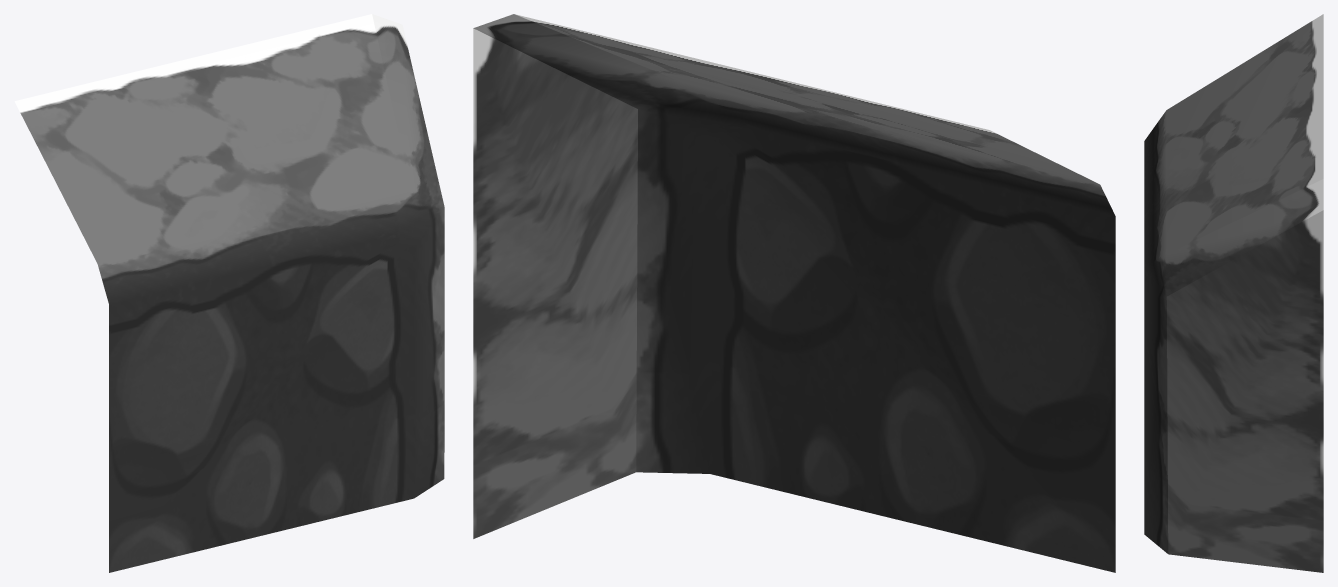
File: tileSegment20.fbx
3 renders of one model, left to right at view 1: azimuth 30°, elevation 25°; view 2: azimuth 150°, elevation 25°; view 3: azimuth 270°, elevation 25°, orthographic. The views are drawn at different scales.
Visible parts, largest first — view 1: polySurface7; view 2: polySurface7; view 3: polySurface7.
Boxes of the visible parts, x1,y1,x2,y2 form: polySurface7: (14,14,444,572); polySurface7: (473,14,1115,572); polySurface7: (1144,14,1323,572).
Bounding box in the file's own units: 0.9209 × 0.9119 × 0.3893.
Materials: 1 (1 with a texture image).
